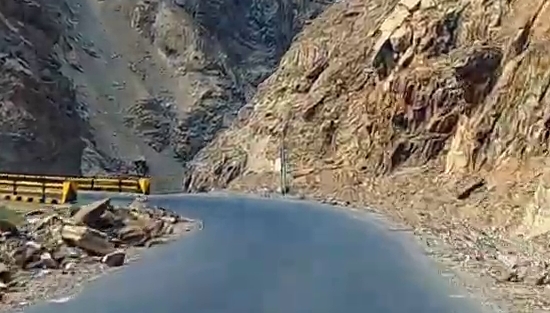right: (86, 163, 411, 284)
